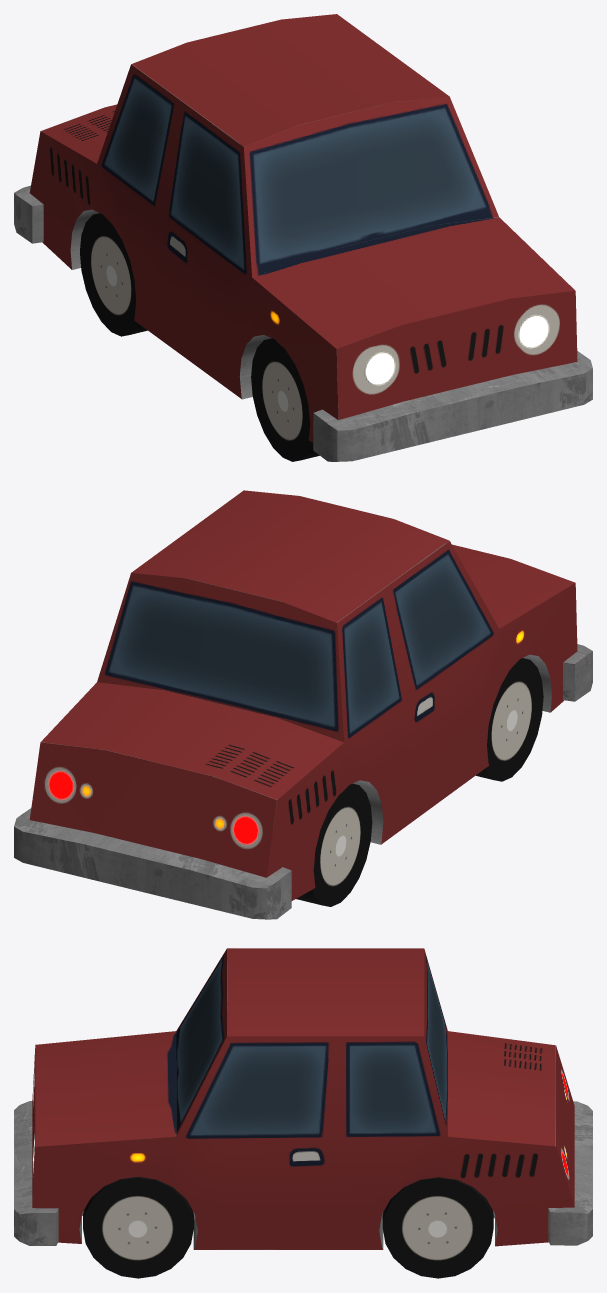
3 views of the same model, one above another, from view 1: azimuth 30°, elevation 25°; view 2: azimuth 150°, elevation 25°; view 3: azimuth 270°, elevation 25° (orthographic). The views are drawn at different scales.
Visible parts, largest first — view 1: City.Car, Car.Wheel.FR, Car.Wheel.BR; view 2: City.Car, Car.Wheel.BR, Car.Wheel.FR; view 3: City.Car, Car.Wheel.FL, Car.Wheel.BL.
Boxes of the visible parts, x1=… form: City.Car: x1=14, y1=14, x2=592, y2=461; Car.Wheel.FR: x1=251, y1=338, x2=319, y2=461; Car.Wheel.BR: x1=80, y1=213, x2=147, y2=336; City.Car: x1=14, y1=490, x2=592, y2=919; Car.Wheel.BR: x1=296, y1=783, x2=372, y2=906; Car.Wheel.FR: x1=476, y1=658, x2=543, y2=781; City.Car: x1=14, y1=948, x2=592, y2=1249; Car.Wheel.FL: x1=83, y1=1176, x2=193, y2=1278; Car.Wheel.BL: x1=382, y1=1177, x2=493, y2=1278.
Bounding box in the file's own units: 213 × 216 × 463.
2 materials, 2 textured.
